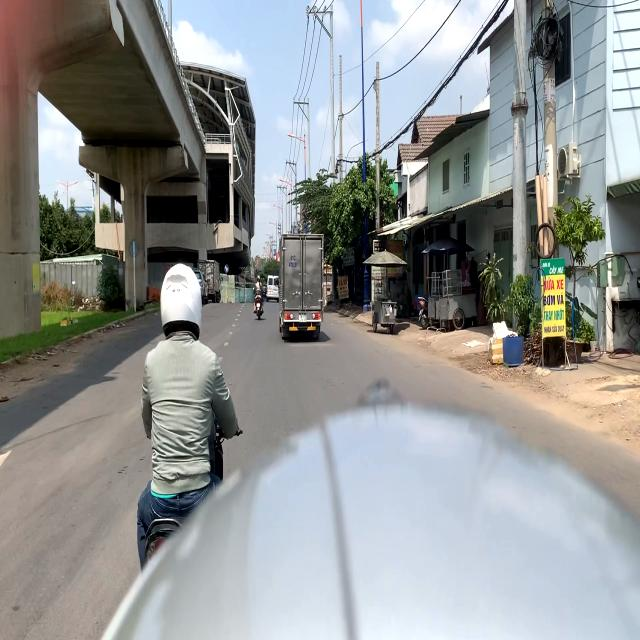R.302a: (224, 264, 229, 274)
